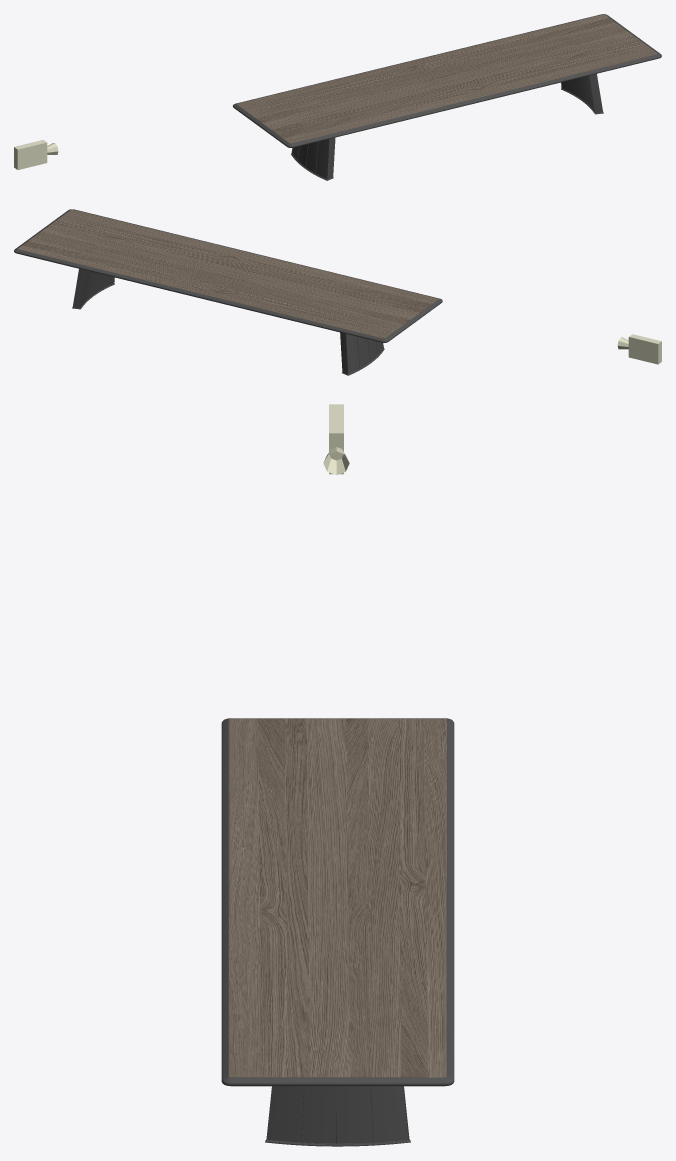
The model's file is 会议桌.fbx.
3 views of the same model, one above another, from view 1: azimuth 30°, elevation 25°; view 2: azimuth 150°, elevation 25°; view 3: azimuth 270°, elevation 25° (orthographic). The views are drawn at different scales.
Parts seen in each view (by area): view 1: Rectangle2106788702, Rectangle2106788705, Model, Rectangle2106788709; view 2: Rectangle2106788702, Rectangle2106788705, Model, Rectangle2106788709; view 3: Rectangle2106788702, Rectangle2106788709, Model.
Boxes of the visible parts, x1,y1,x2,y2 form: Rectangle2106788702: [233, 14, 661, 147]; Rectangle2106788705: [291, 137, 335, 179]; Model: [14, 139, 58, 169]; Rectangle2106788709: [561, 74, 602, 113]; Rectangle2106788702: [14, 209, 442, 342]; Rectangle2106788705: [340, 332, 383, 374]; Model: [617, 334, 661, 364]; Rectangle2106788709: [72, 269, 114, 308]; Rectangle2106788702: [221, 718, 454, 1086]; Rectangle2106788709: [266, 1086, 409, 1144]; Model: [323, 404, 349, 475].
Size of the model in its own units: 9605 by 1353 by 1567.
